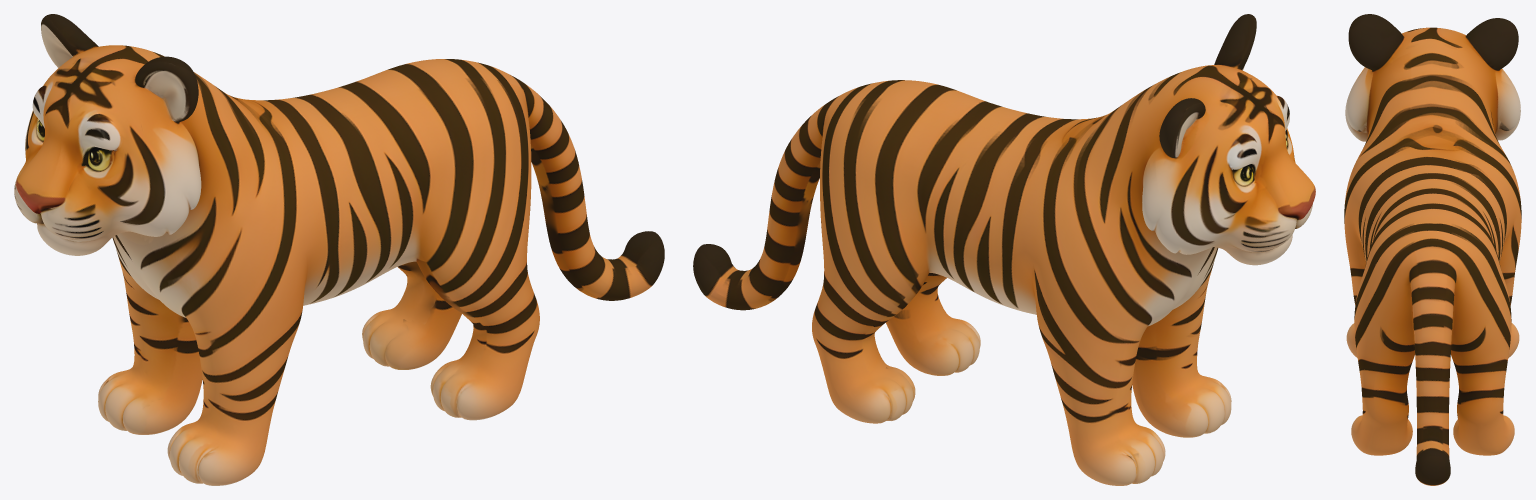
The picture shows the model from 3 angles, left to right: view 1: azimuth 30°, elevation 25°; view 2: azimuth 150°, elevation 25°; view 3: azimuth 270°, elevation 25°; orthographic projection. The views are drawn at different scales.
Visible parts, largest first — view 1: Animal; view 2: Animal; view 3: Animal.
Part boxes in pixels (x1,y1,x2,y2): Animal: (14,14,664,485); Animal: (693,14,1315,485); Animal: (1344,14,1521,485).
Bounding box in the file's own units: 3.2 × 2.07 × 1.04.
Materials: 1 (1 with a texture image).
